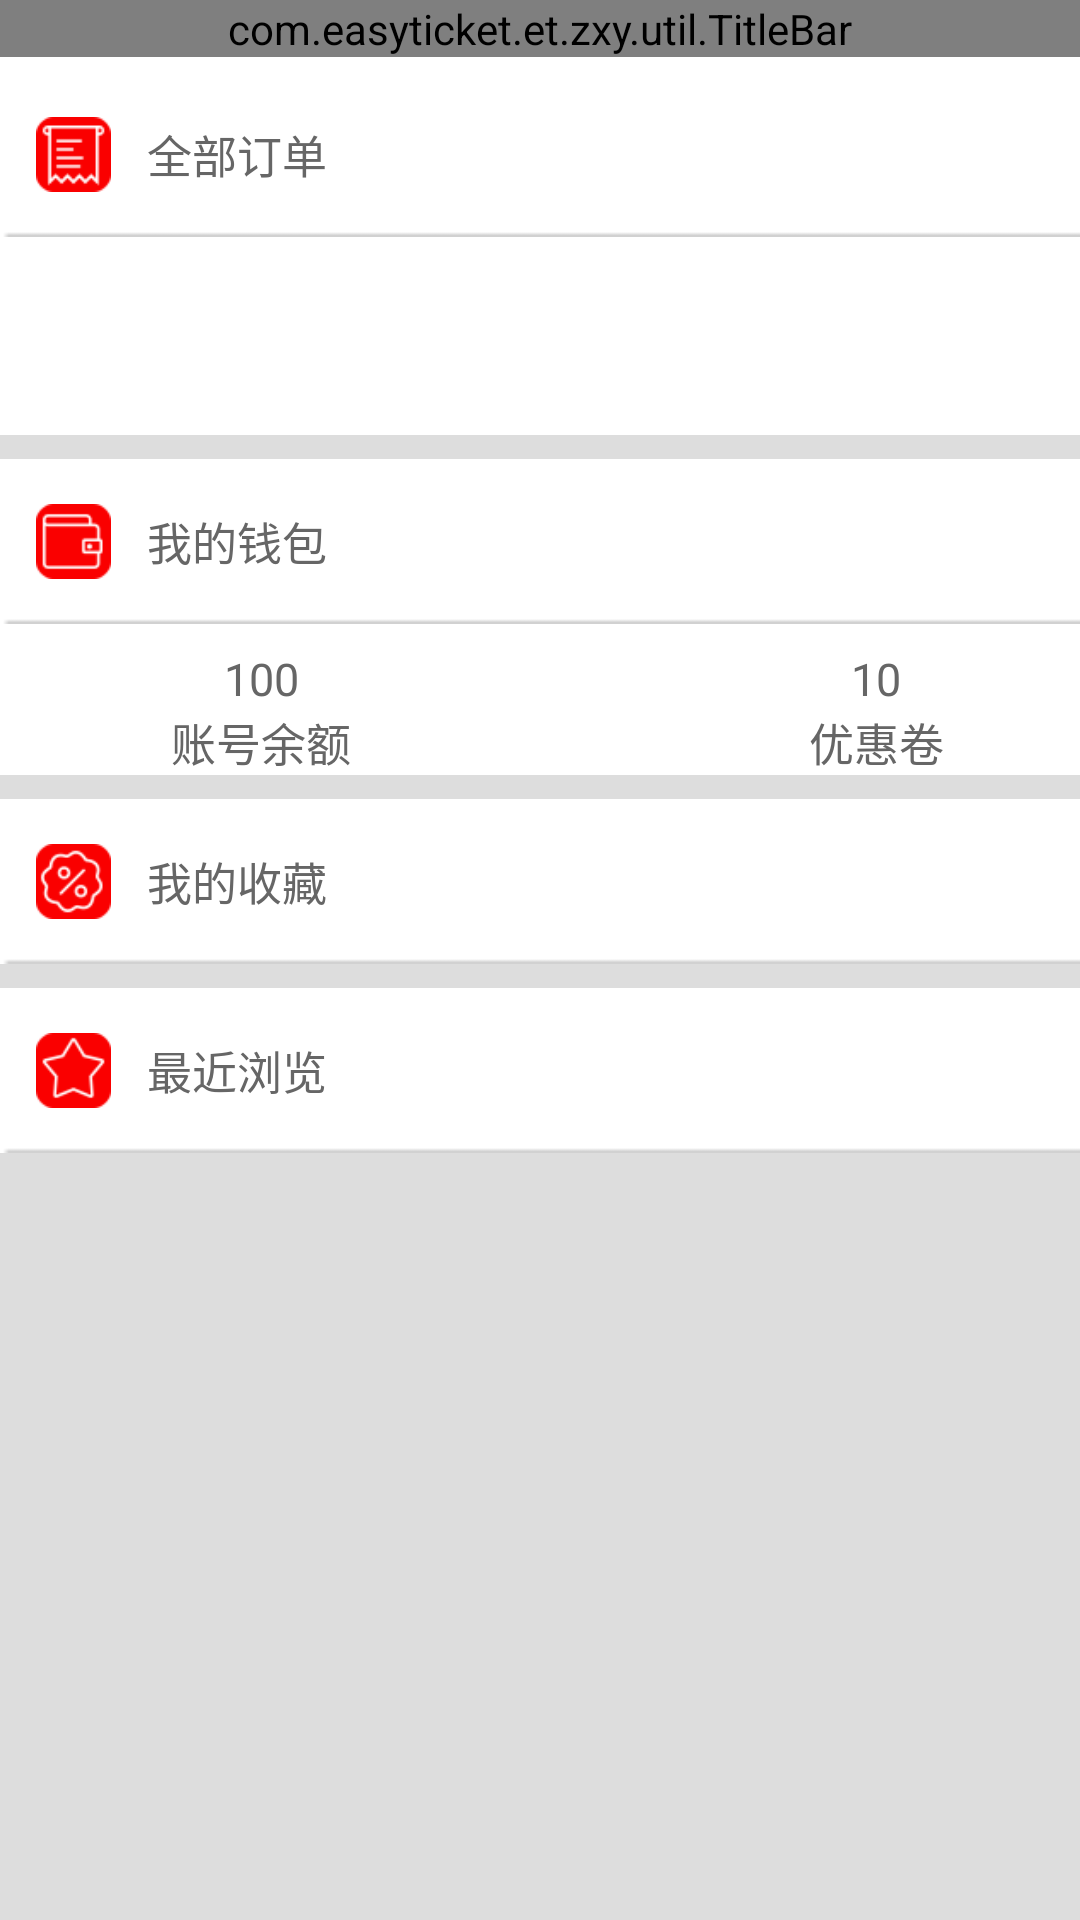

Locate icon controls on the screen. Image size 1080px x 1920px, boxes as bbox(x1, y1, x2, y2).
alldeal: bbox(36, 117, 111, 192)
redwallet: bbox(36, 504, 111, 579)
